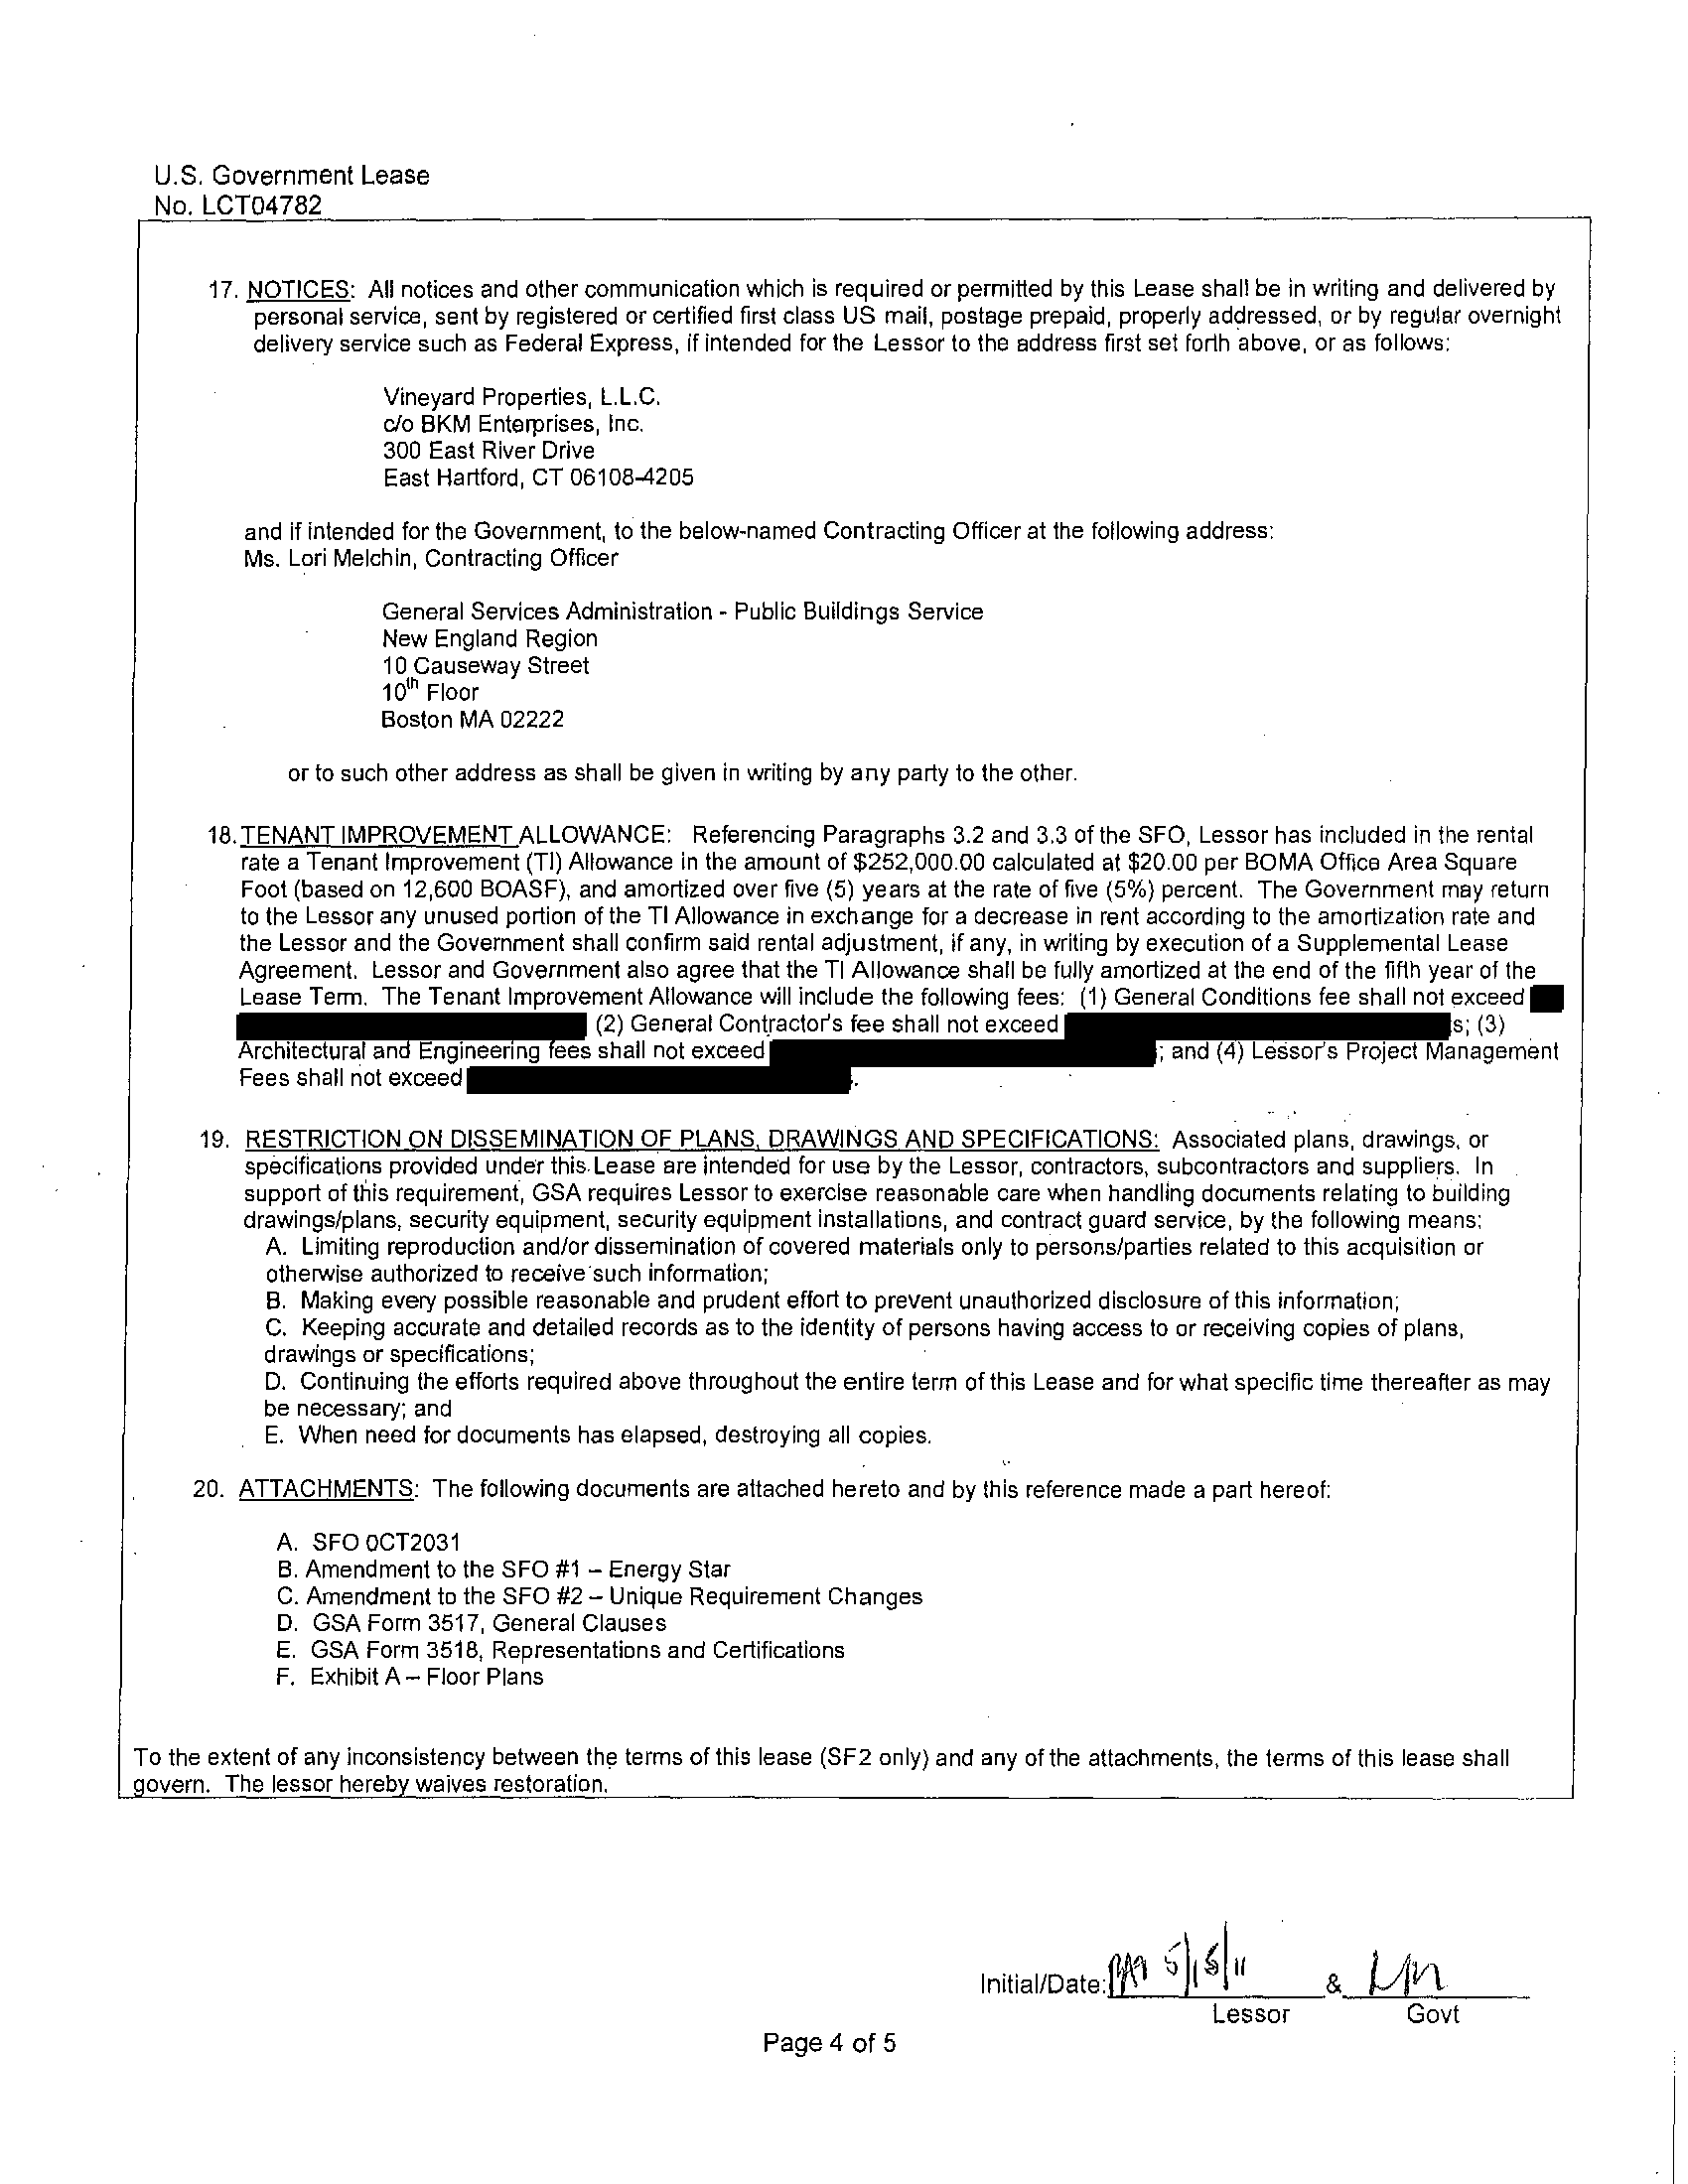handwritten: (1110, 1902, 1280, 2012), (1344, 1920, 1477, 1996)
